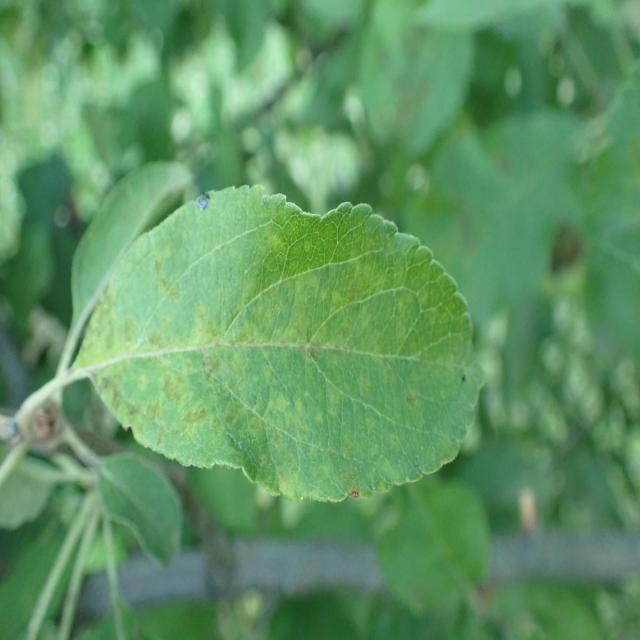scab: (78, 217, 515, 503)
